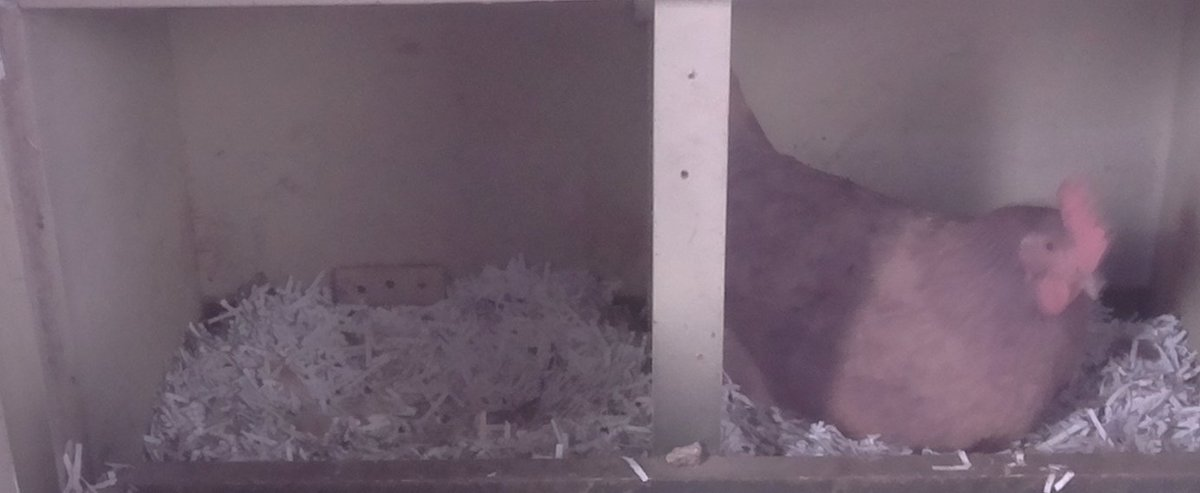hen: (726, 181, 1113, 439)
